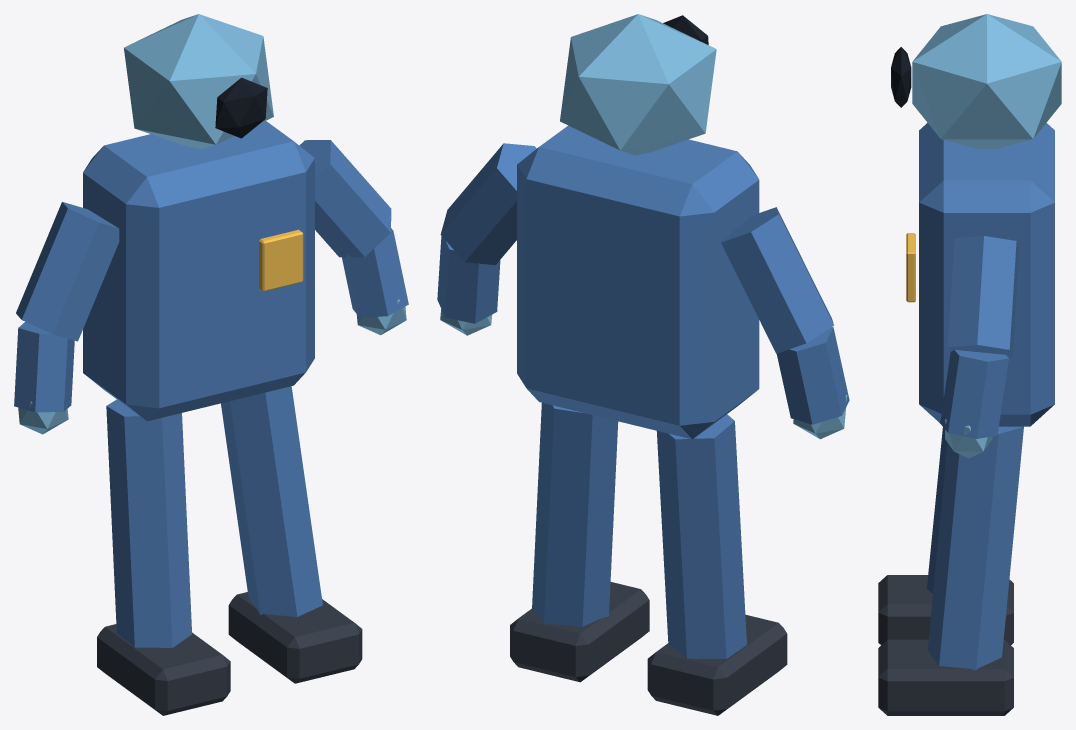
Rendered from npcs_001_seed11.glb.
3 renders of one model, left to right at view 1: azimuth 30°, elevation 25°; view 2: azimuth 150°, elevation 25°; view 3: azimuth 270°, elevation 25°, orthographic. The views are drawn at different scales.
Visible parts, largest first — view 1: npcs_001_seed11; view 2: npcs_001_seed11; view 3: npcs_001_seed11.
Part boxes in pixels (x1,y1,x2,y2): npcs_001_seed11: (14, 14, 408, 715); npcs_001_seed11: (437, 14, 849, 715); npcs_001_seed11: (878, 14, 1061, 715).
Size of the model in its own units: 0.9899 by 1.58 by 0.4034.
